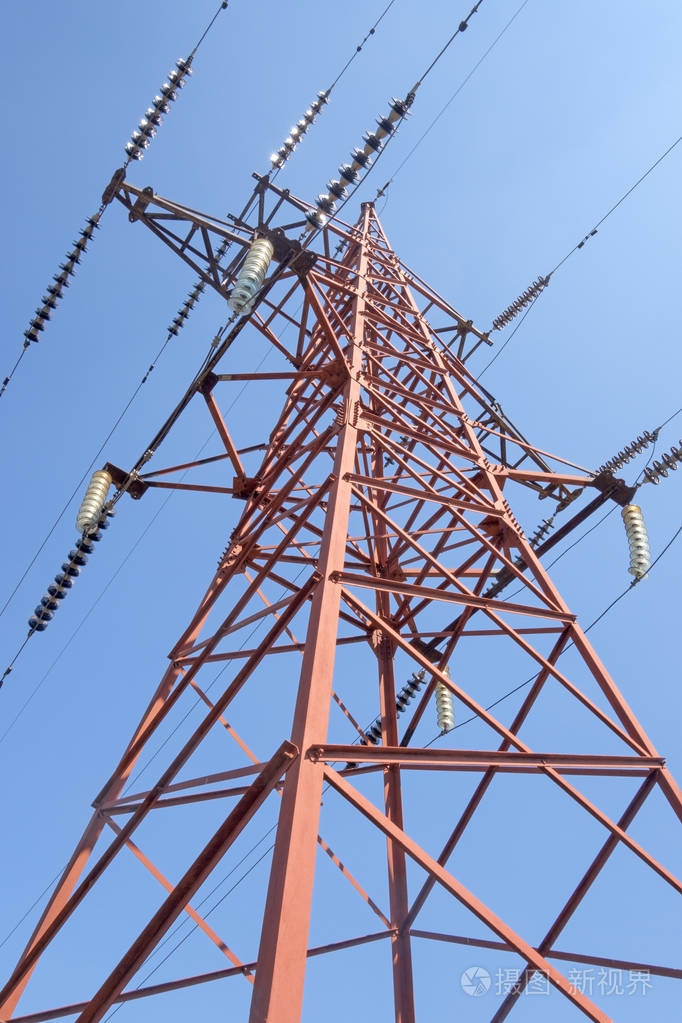insulator: (309, 94, 411, 230), (23, 213, 99, 339), (27, 520, 110, 632), (169, 226, 234, 336), (119, 59, 190, 157), (268, 88, 326, 169), (362, 671, 426, 743), (492, 514, 550, 593), (488, 274, 549, 332), (233, 233, 275, 312), (622, 501, 652, 586), (596, 429, 653, 472), (81, 468, 109, 528), (437, 664, 456, 729), (648, 448, 682, 484)
